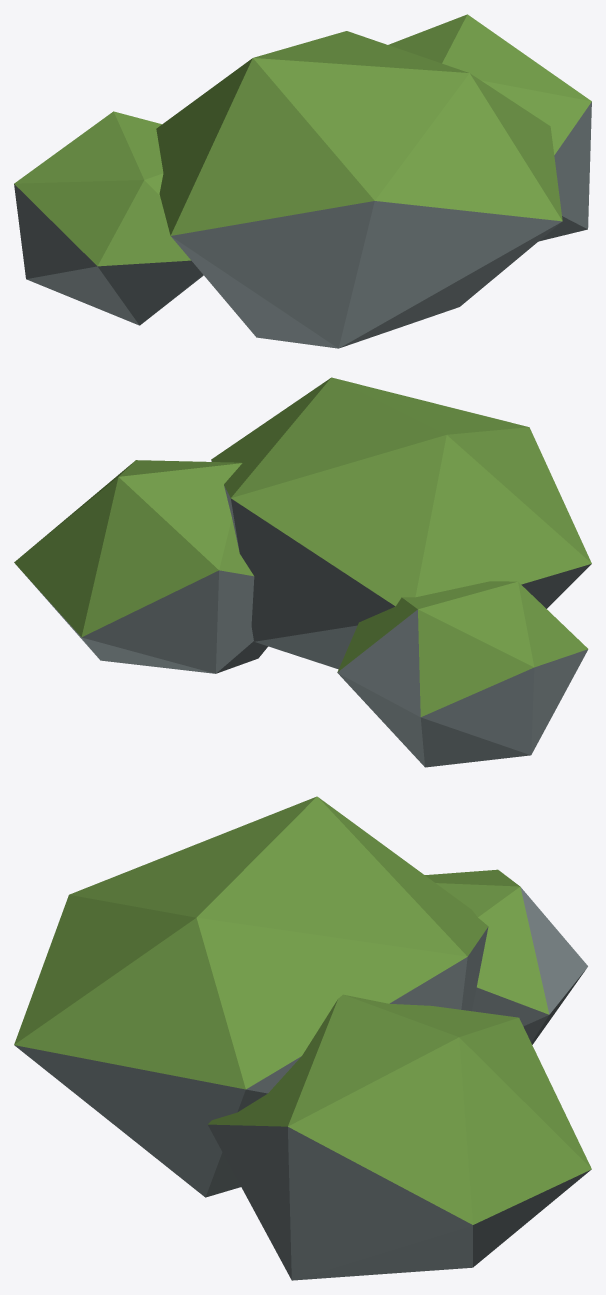
File: world_boulder_mossy_l.obj
3 renders of one model, top to bottom at view 1: azimuth 30°, elevation 25°; view 2: azimuth 150°, elevation 25°; view 3: azimuth 270°, elevation 25°, orthographic. The views are drawn at different scales.
Visible parts, largest first — view 1: world_boulder_mossy_l; view 2: world_boulder_mossy_l; view 3: world_boulder_mossy_l.
Boxes of the visible parts, bbox=[...] form: world_boulder_mossy_l: bbox=[14, 14, 591, 348]; world_boulder_mossy_l: bbox=[14, 377, 591, 767]; world_boulder_mossy_l: bbox=[14, 796, 591, 1280].
Bounding box in the file's own units: 11.97 × 5.9 × 9.25.
